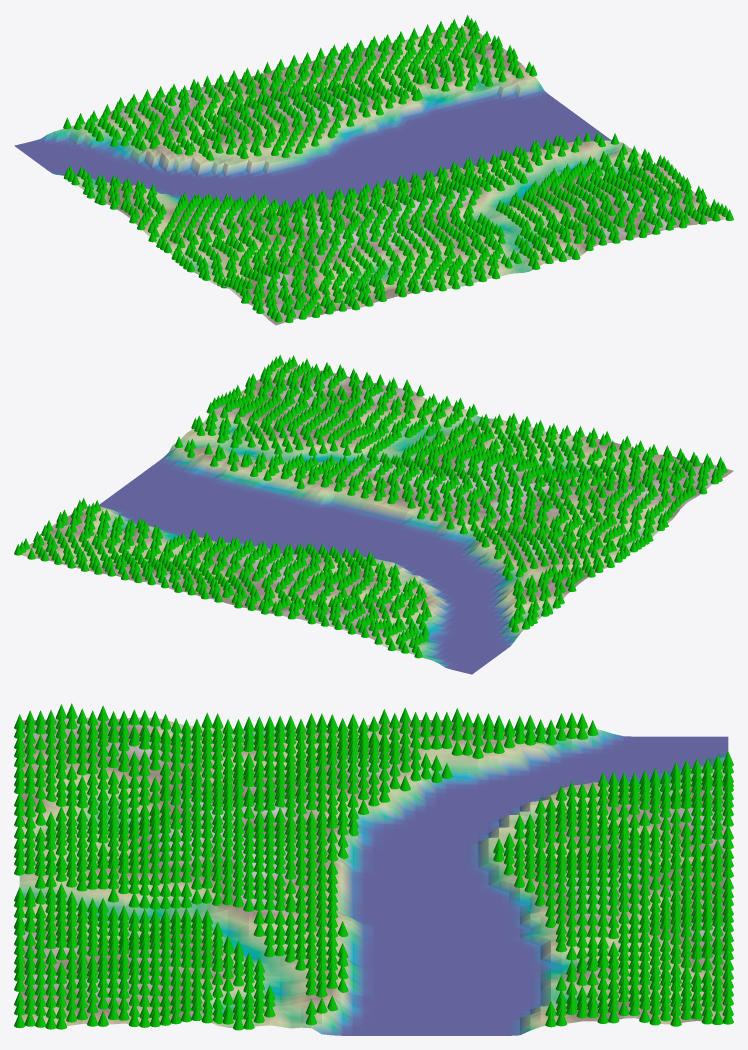
Rendered from 004858_with_tree.glb.
3 views of the same model, one above another, from view 1: azimuth 30°, elevation 25°; view 2: azimuth 150°, elevation 25°; view 3: azimuth 270°, elevation 25° (orthographic). The views are drawn at different scales.
Parts seen in each view (by area): view 1: trees, terrain; view 2: trees, terrain; view 3: trees, terrain.
Part boxes in pixels (x1,y1,x2,y2): trees: (63,15,733,322); terrain: (14,26,725,325); trees: (14,355,727,658); terrain: (22,365,733,674); trees: (14,703,733,1030); terrain: (19,717,728,1035).
Size of the model in its own units: 0.0186 by 0.00099 by 0.0186.
